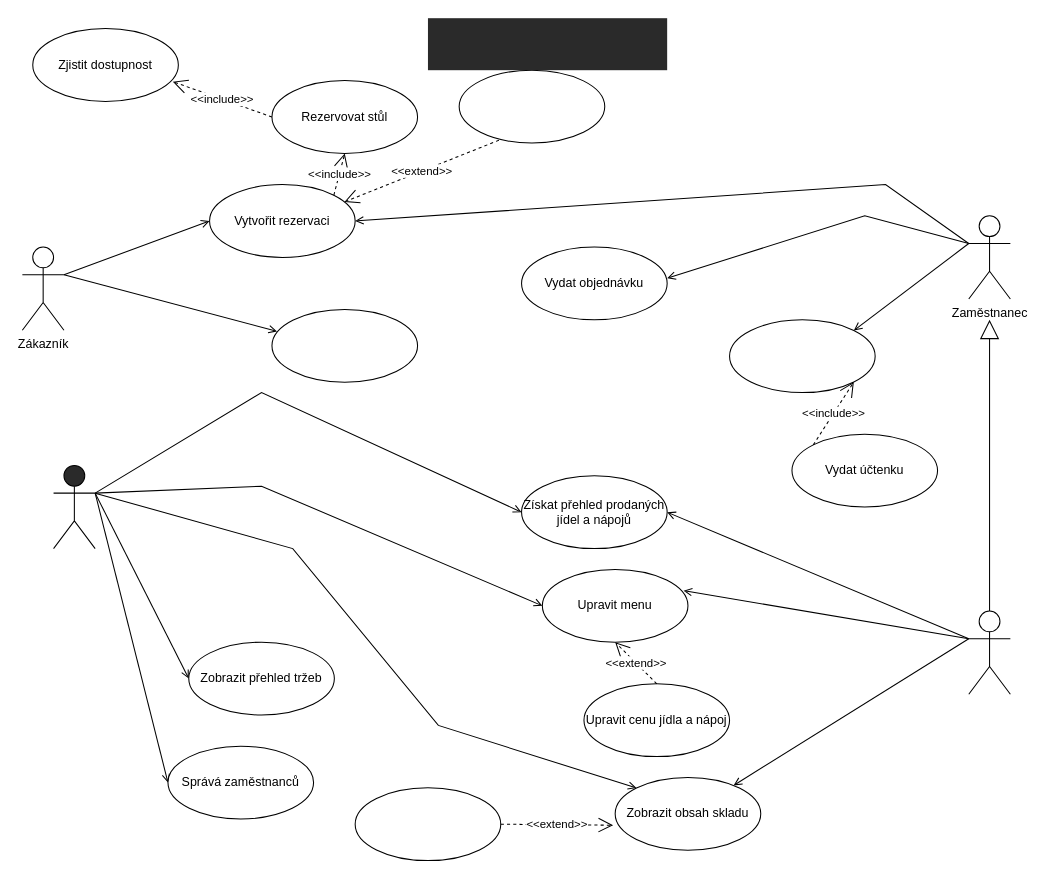
This 1058x879 diagram has some shape labels left out. Each missing label, with the centre of its shape:
"Informační systém restaurace" goes at [547,44].
"Majitel" goes at [74,506].
"Objednat jídlo a nápoj" goes at [531,106].
"Objednat suroviny" goes at [427,824].
"OdpovědnáOsoba" goes at [989,652].
"Zadat záznam o platbě" goes at [802,356].
"Zaplatit objednávku" goes at [344,345].
